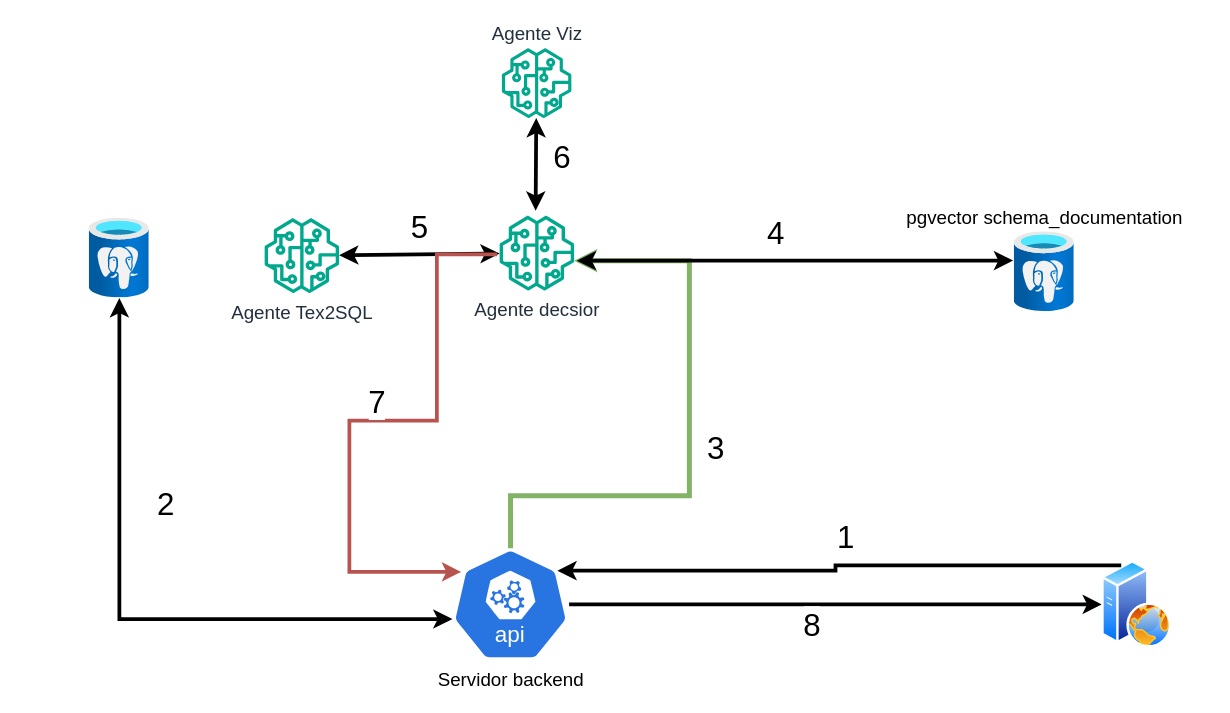
Image size: 1230x713. Some labels were removed from this diagram. Here are the shapes that lost their labels. From the top down, the centre of each, then its label:
At (x=119, y=258): "pgvector query_vectors".
At (x=1136, y=604): "Servidor frontend".
